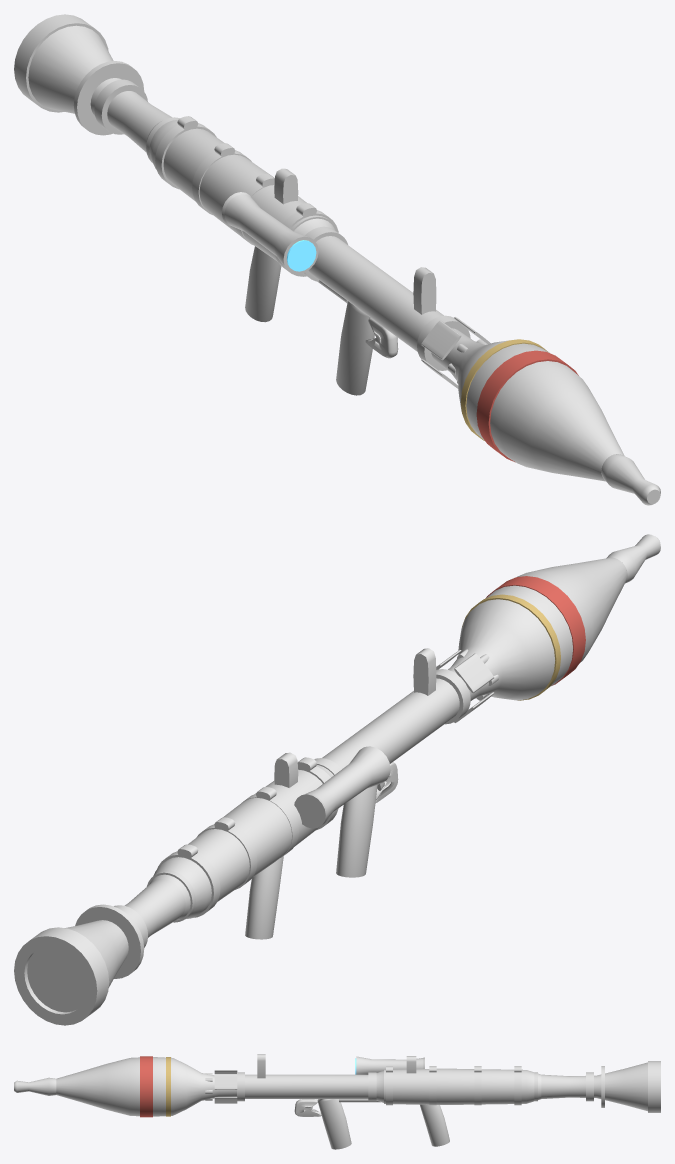
File: Weapon_Bazooka.fbx
3 renders of one model, top to bottom at view 1: azimuth 30°, elevation 25°; view 2: azimuth 150°, elevation 25°; view 3: azimuth 270°, elevation 25°, orthographic. The views are drawn at different scales.
Visible parts, largest first — view 1: Weapon_Bazooka; view 2: Weapon_Bazooka; view 3: Weapon_Bazooka.
Part boxes in pixels (x1=…): Weapon_Bazooka: x1=14, y1=14, x2=660, y2=505; Weapon_Bazooka: x1=14, y1=534, x2=660, y2=1025; Weapon_Bazooka: x1=14, y1=1054, x2=660, y2=1149.
Bounding box in the file's own units: 0.1278 × 1.29 × 0.2058.
